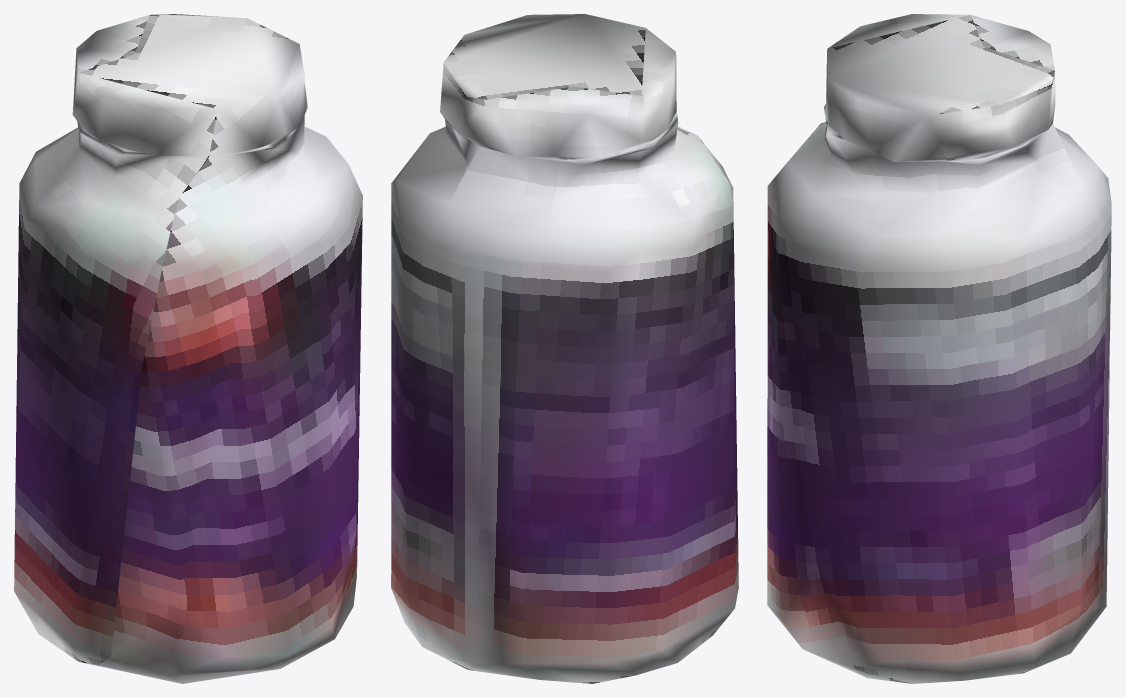
Rendered from Quercetin_500-low.glb.
3 views of the same model, side by side, from view 1: azimuth 30°, elevation 25°; view 2: azimuth 150°, elevation 25°; view 3: azimuth 270°, elevation 25° (orthographic).
Visible parts, largest first — view 1: Quercetin_500; view 2: Quercetin_500; view 3: Quercetin_500.
Part boxes in pixels (left/top/right/bottom): Quercetin_500: left=14, top=14, right=362, bottom=683; Quercetin_500: left=391, top=14, right=738, bottom=683; Quercetin_500: left=767, top=14, right=1111, bottom=683.
Size of the model in its own units: 0.079 by 0.1439 by 0.079.
1 material, 1 textured.
